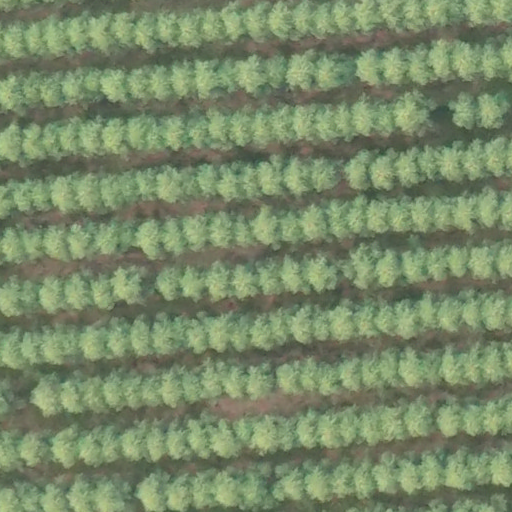eucalipto: (282, 48, 319, 90), (253, 254, 288, 297), (395, 92, 429, 136), (275, 355, 307, 400), (192, 158, 224, 202), (157, 259, 186, 305), (251, 205, 282, 247), (402, 395, 433, 437), (236, 56, 269, 95), (249, 415, 280, 456), (134, 217, 164, 259), (219, 358, 251, 397), (126, 111, 157, 151), (448, 91, 478, 132), (310, 152, 342, 190), (32, 375, 63, 414), (406, 43, 434, 86), (344, 149, 373, 190), (393, 297, 422, 338), (284, 153, 311, 197), (192, 59, 223, 97), (220, 4, 250, 43), (205, 260, 232, 303), (100, 116, 129, 156), (51, 425, 79, 466), (153, 165, 184, 202), (327, 302, 357, 340), (79, 322, 108, 361), (354, 49, 383, 88), (351, 97, 379, 137), (372, 149, 398, 192), (38, 277, 67, 315), (90, 271, 118, 310), (397, 347, 425, 386), (110, 10, 138, 49), (326, 199, 353, 239), (18, 429, 48, 465), (205, 109, 232, 149), (186, 418, 212, 459), (159, 367, 185, 408), (434, 398, 462, 436), (176, 11, 204, 49), (300, 204, 327, 243), (129, 316, 155, 356), (436, 294, 462, 334), (44, 15, 69, 56), (20, 120, 46, 159), (51, 177, 79, 213), (101, 66, 128, 103), (208, 208, 232, 249), (65, 223, 92, 259), (150, 63, 176, 100), (100, 173, 126, 210), (184, 318, 209, 356), (337, 354, 362, 392), (42, 71, 66, 108), (103, 374, 127, 411), (296, 410, 318, 449), (122, 424, 144, 460), (462, 404, 484, 435)
